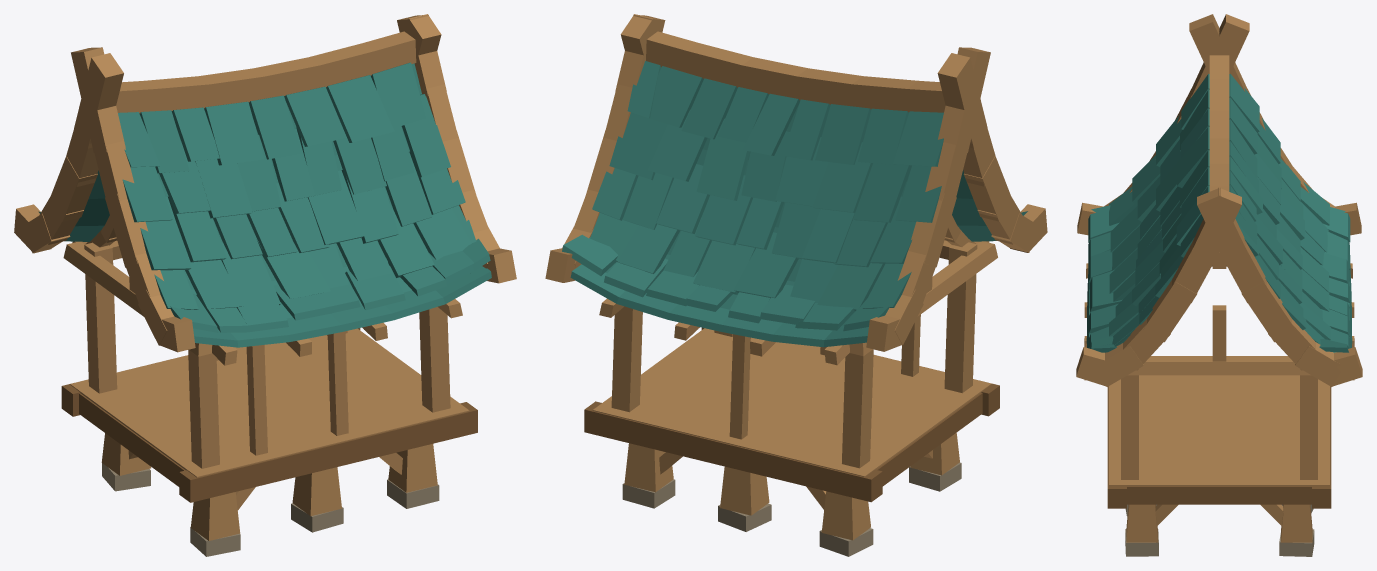
File: chicken-coop-roof.glb
The picture shows the model from 3 angles, left to right: view 1: azimuth 30°, elevation 25°; view 2: azimuth 150°, elevation 25°; view 3: azimuth 270°, elevation 25°; orthographic projection. The views are drawn at different scales.
Visible parts, largest first — view 1: roof_shingles, roof_timbers, floor_deck, timber_frame, floor_frame, legs, stone_shoes; view 2: roof_shingles, roof_timbers, floor_deck, timber_frame, floor_frame, legs, stone_shoes; view 3: roof_shingles, floor_deck, roof_timbers, timber_frame, floor_frame, legs, stone_shoes.
Boxes of the visible parts, x1,y1,x2,y2 form: roof_shingles: [38, 62, 491, 347]; roof_timbers: [14, 14, 516, 352]; floor_deck: [70, 328, 469, 477]; timber_frame: [63, 215, 462, 468]; floor_frame: [61, 328, 477, 502]; legs: [101, 433, 437, 540]; stone_shoes: [102, 463, 439, 556]; roof_shingles: [562, 61, 1027, 347]; roof_timbers: [545, 14, 1047, 351]; floor_deck: [592, 328, 991, 476]; timber_frame: [599, 215, 997, 468]; floor_frame: [584, 327, 999, 502]; legs: [624, 433, 959, 540]; stone_shoes: [622, 462, 961, 556]; roof_shingles: [1086, 74, 1352, 352]; floor_deck: [1109, 375, 1329, 486]; roof_timbers: [1076, 14, 1362, 386]; timber_frame: [1084, 252, 1354, 479]; floor_frame: [1107, 386, 1331, 508]; legs: [1126, 504, 1312, 542]; stone_shoes: [1125, 504, 1314, 556].
Size of the model in its own units: 2.33 by 3.06 by 1.91.
